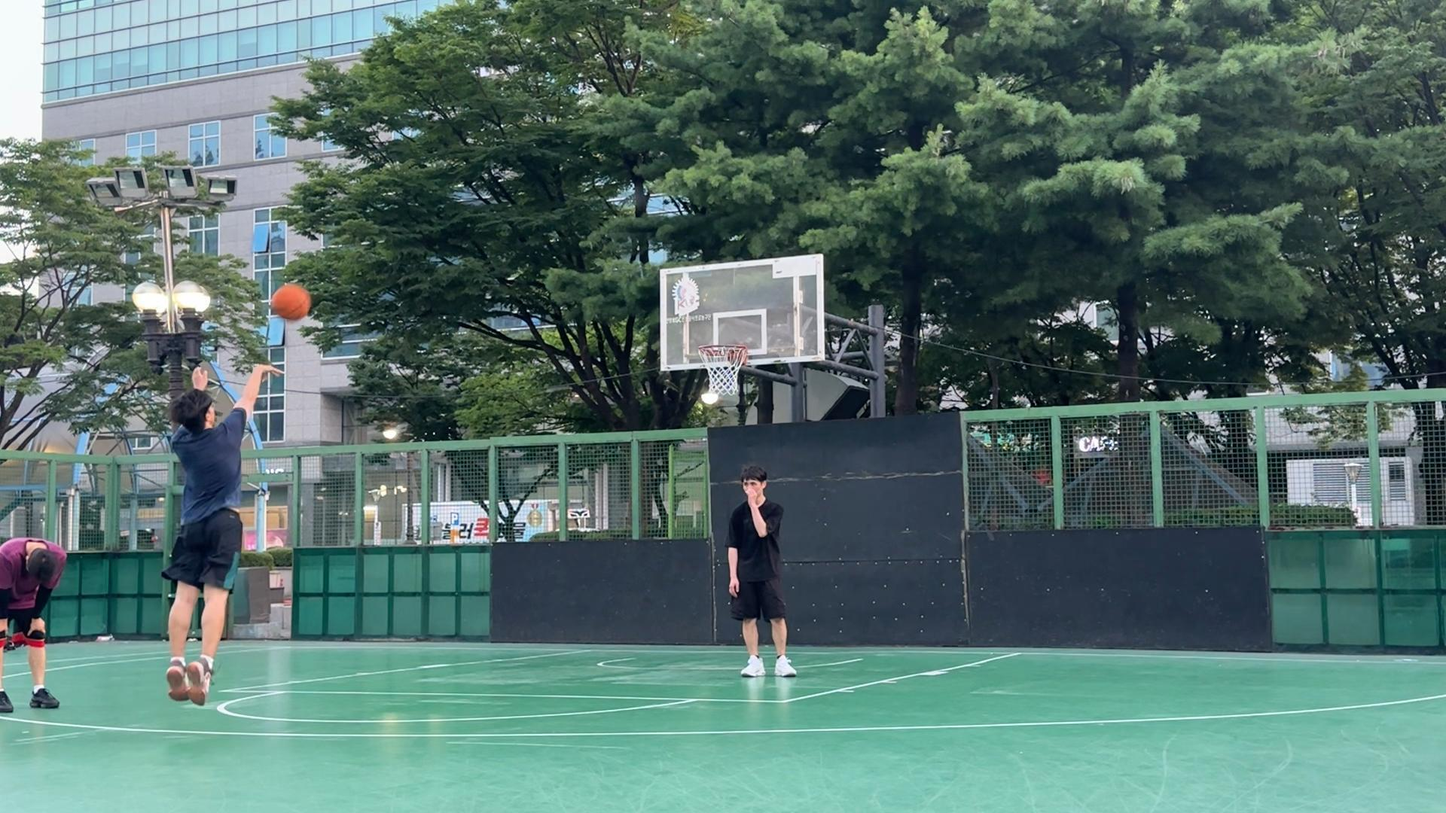ball: (271, 282, 312, 321)
human: (160, 361, 286, 706), (723, 464, 797, 678), (0, 535, 67, 714)
rim: (698, 344, 748, 397)
